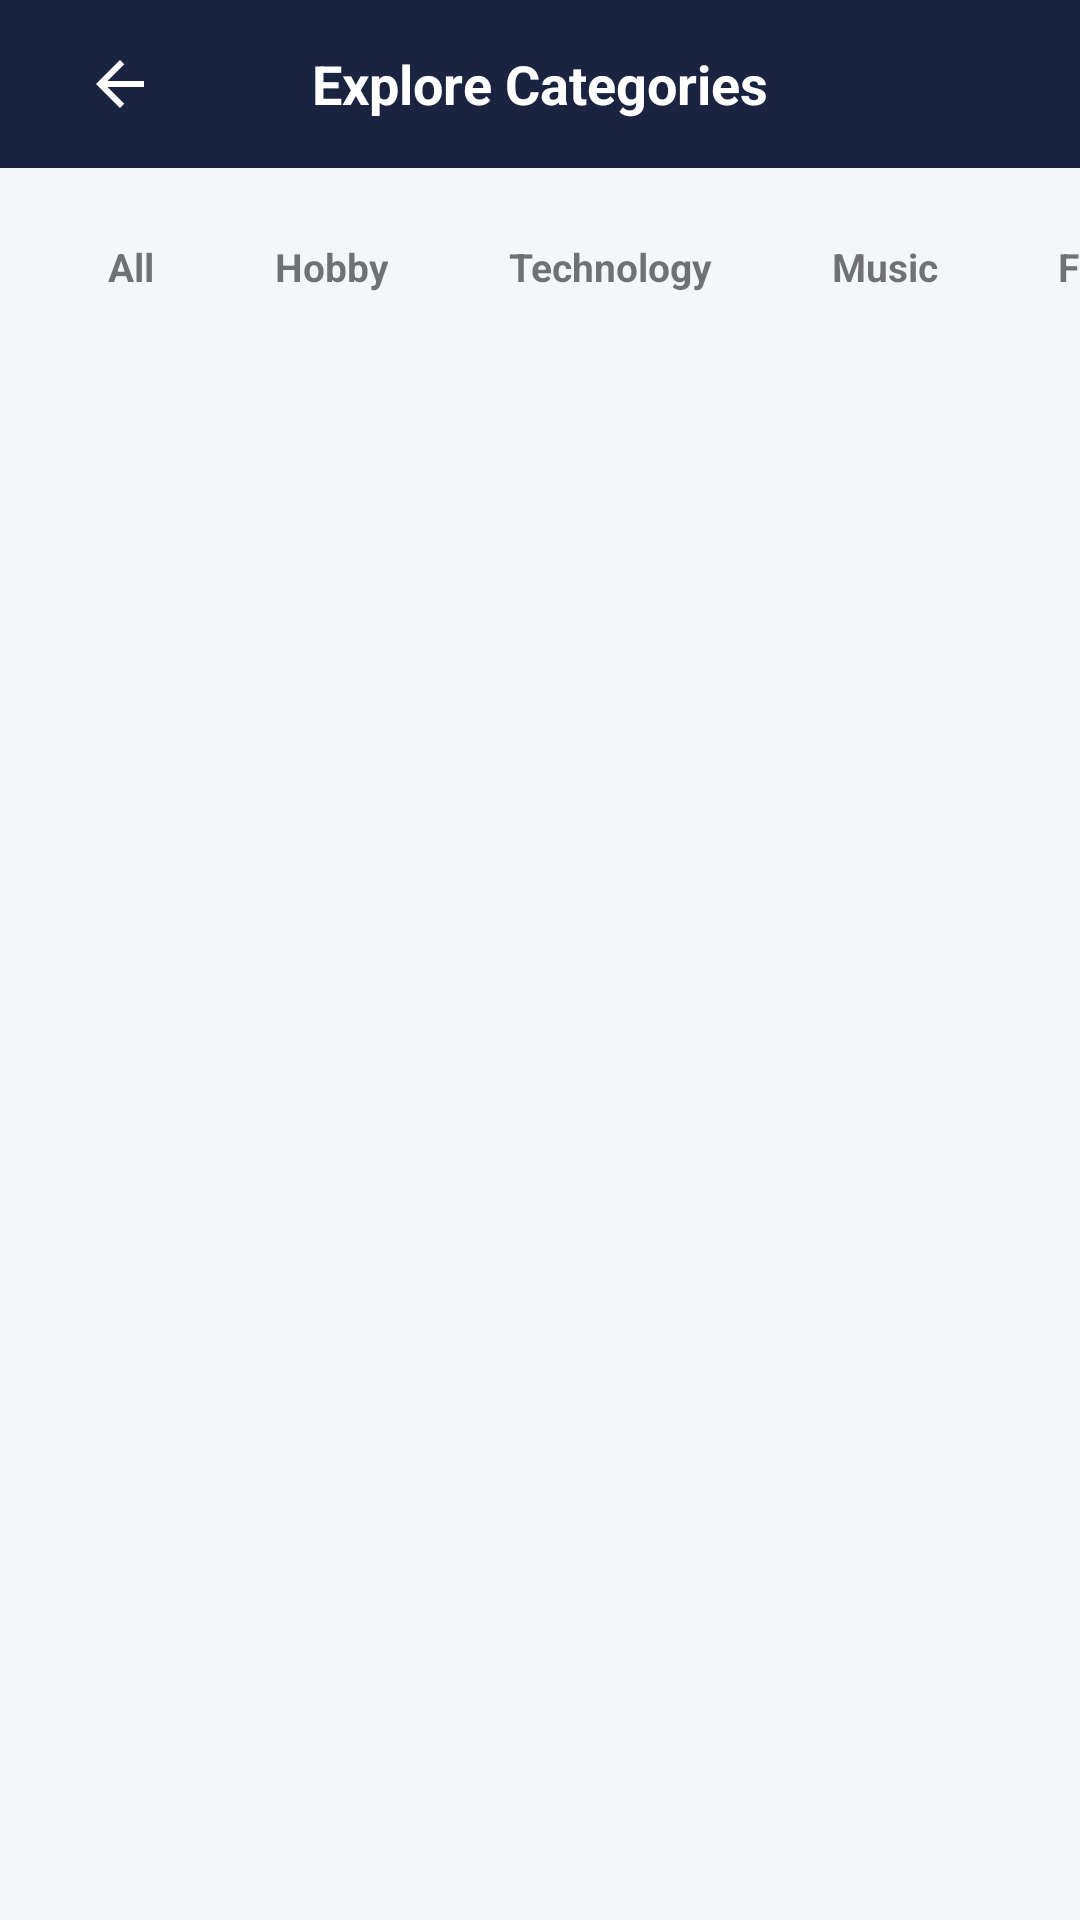

Locate icon controls on the screen. Image size 1080x1920, boxes as {"x1": x1, "y1": y1, "x2": x2, "y2": y2}.
Back: {"x1": 96, "y1": 60, "x2": 144, "y2": 108}
